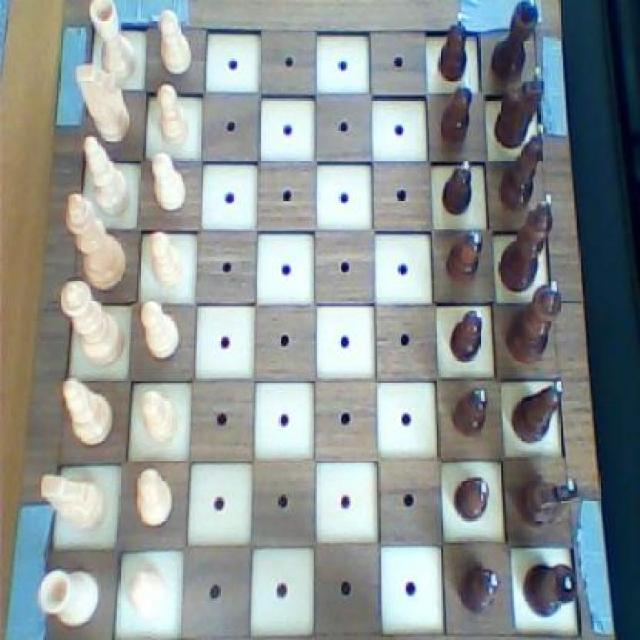bishop: (494, 122, 549, 215), (509, 376, 567, 446)
black-bishop: (497, 191, 554, 295)
black-king: (492, 65, 548, 152), (520, 472, 582, 531)
black-knight: (437, 8, 472, 83), (437, 84, 477, 148), (449, 383, 492, 442), (457, 560, 501, 615), (446, 308, 484, 364), (445, 229, 483, 284), (440, 158, 473, 218), (451, 475, 489, 524)
black-pawn: (503, 278, 565, 366)
black-queen: (488, 0, 544, 86), (522, 558, 580, 618)
black-rook: (77, 135, 134, 223), (59, 377, 116, 452)
white-bishop: (65, 192, 132, 296)
white-king: (74, 60, 135, 143), (37, 468, 109, 536)
white-knight: (137, 297, 181, 362), (125, 563, 172, 622), (152, 8, 195, 70), (134, 465, 175, 530), (152, 80, 191, 147), (140, 384, 182, 444), (148, 150, 188, 212), (147, 228, 186, 290)
white-pawn: (57, 278, 125, 371)
white-queen: (83, 0, 140, 82), (34, 563, 101, 632)
